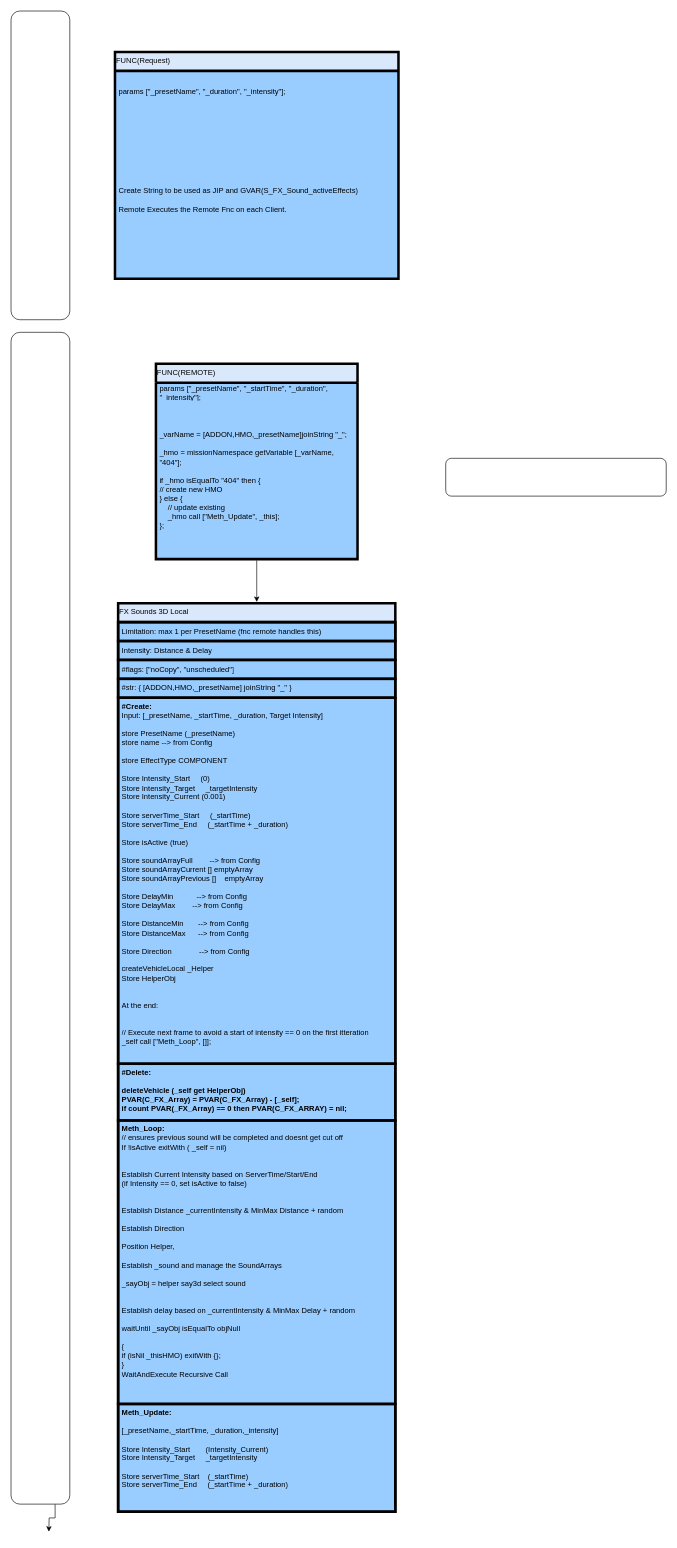
Image size: 677x1548. Some labels were removed from this diagram. The shapes that lost their labels are listed below. From the top down, each one's centre as x and y in pixels, then its label:
the point at 40,165: SERVER SIDE
the point at 555,477: GVAR: ADDON_C_HMO_TemplateName
the point at 40,918: CLIENTSIDE
